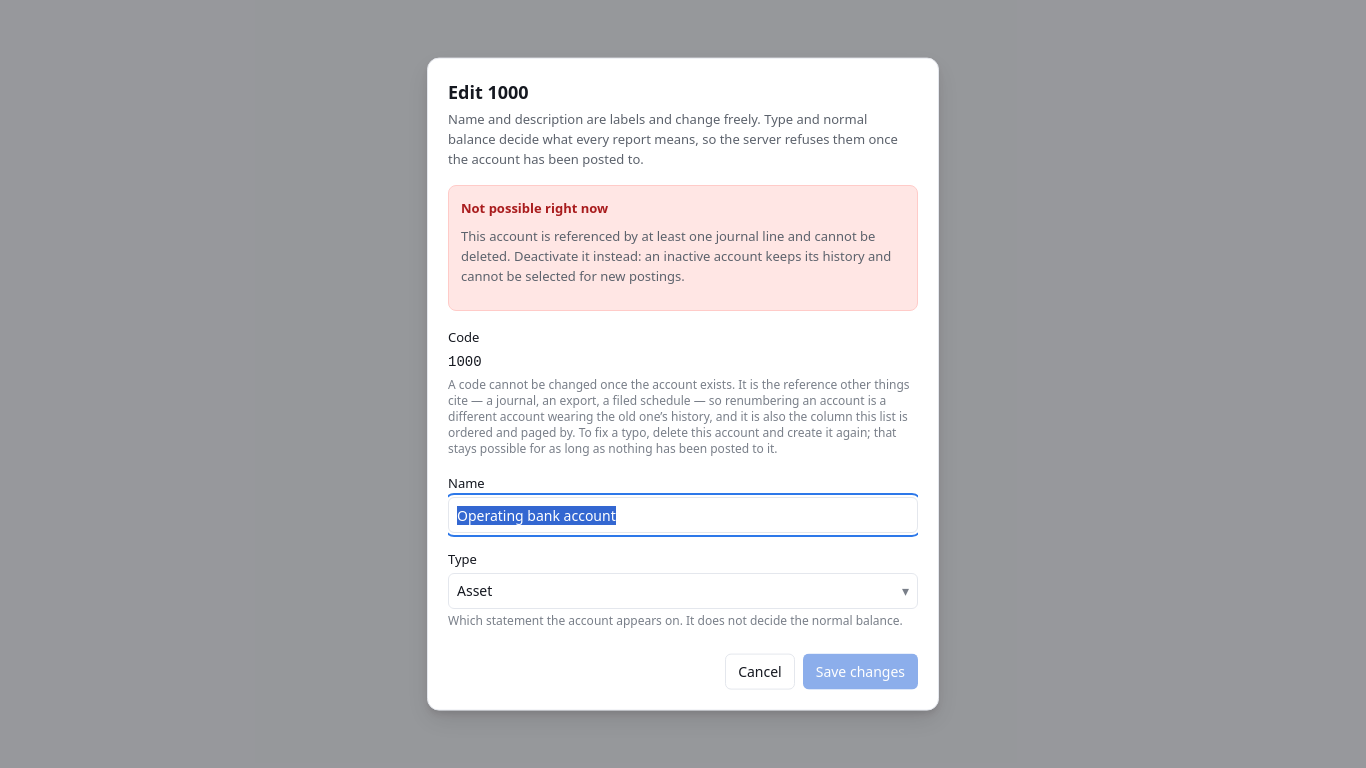
Test: EditAccountDialog › offers to put the classification back when that is what was refused
Expected: the button "Put the type and normal balance back" is not shown
Click the dropdown named "Type" at (475, 590), box [448,573,918,609]
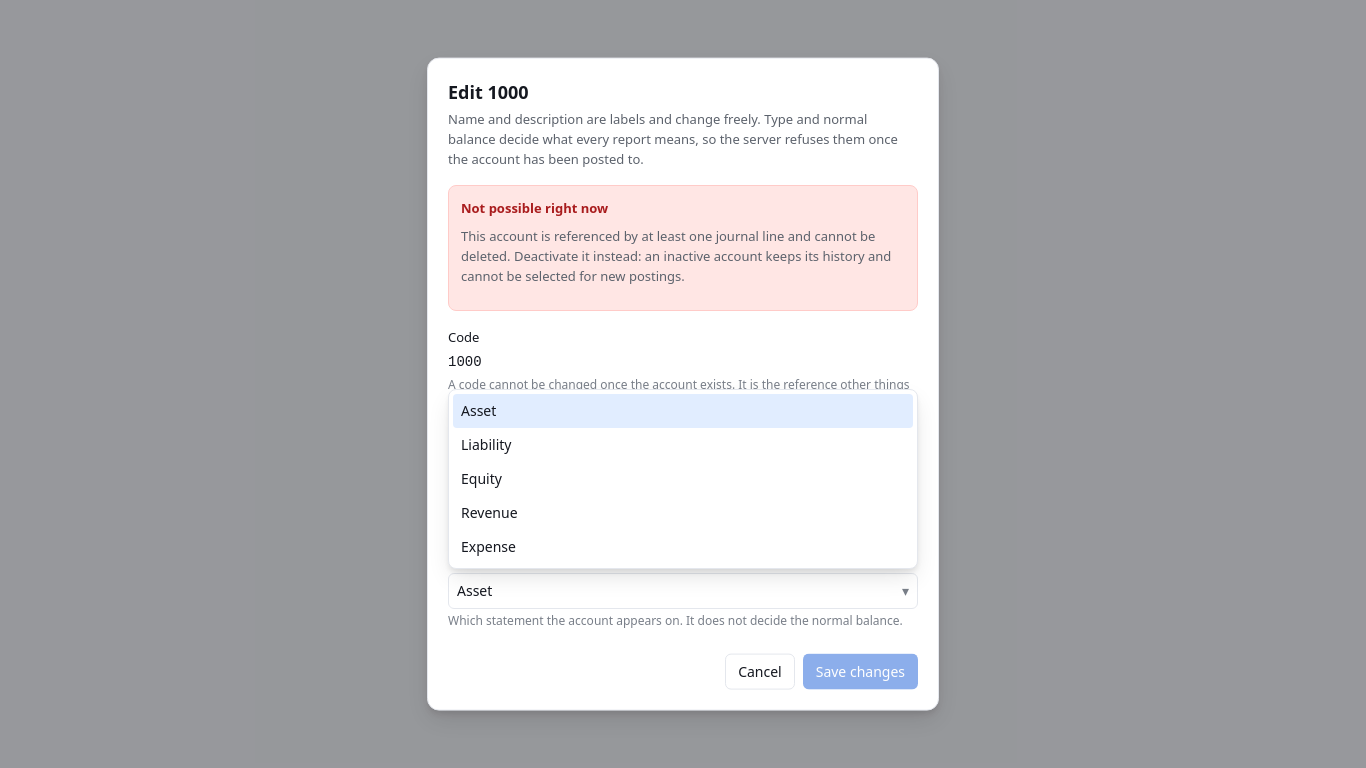
Click the option "Expense" at (488, 546), box [461,537,516,556]
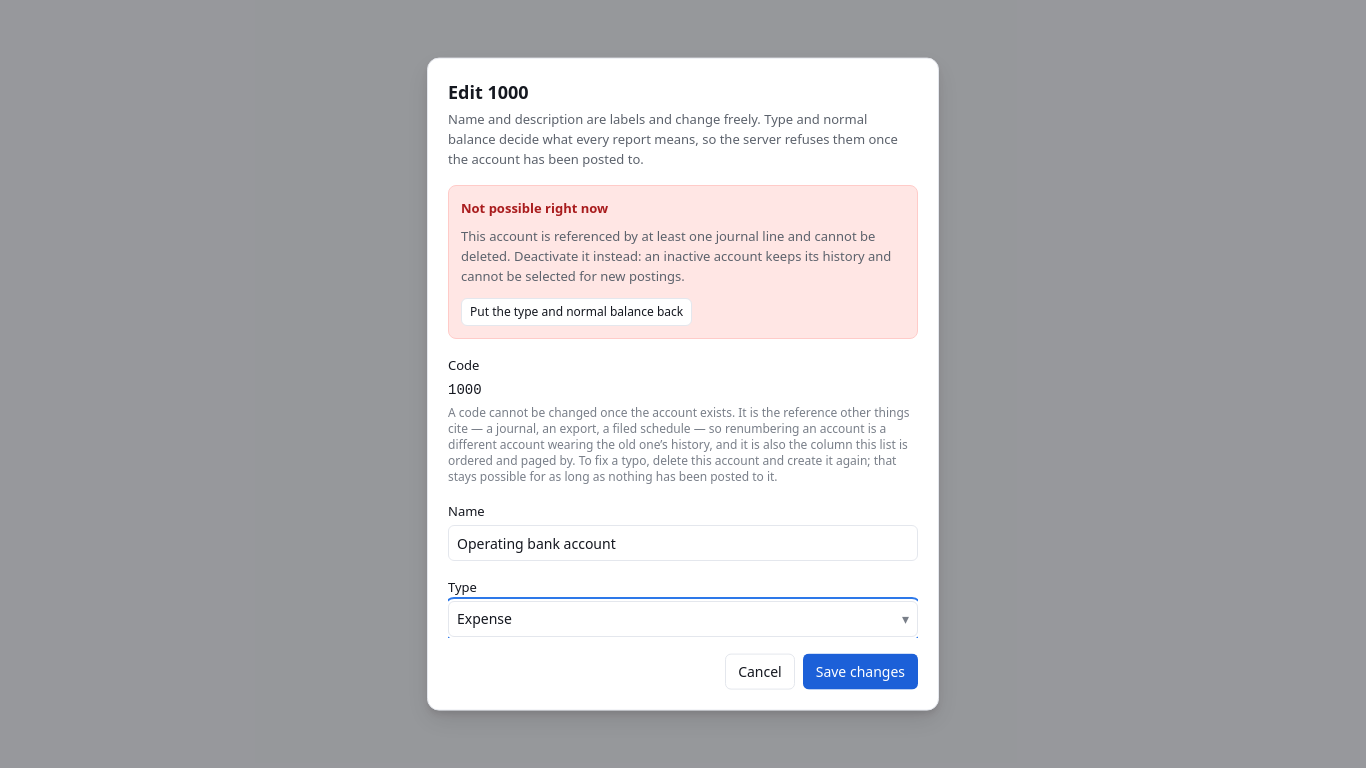
Now the button "Put the type and normal balance back" is shown
Click the button "Put the type and normal balance back" at (577, 312), box [461,298,692,326]
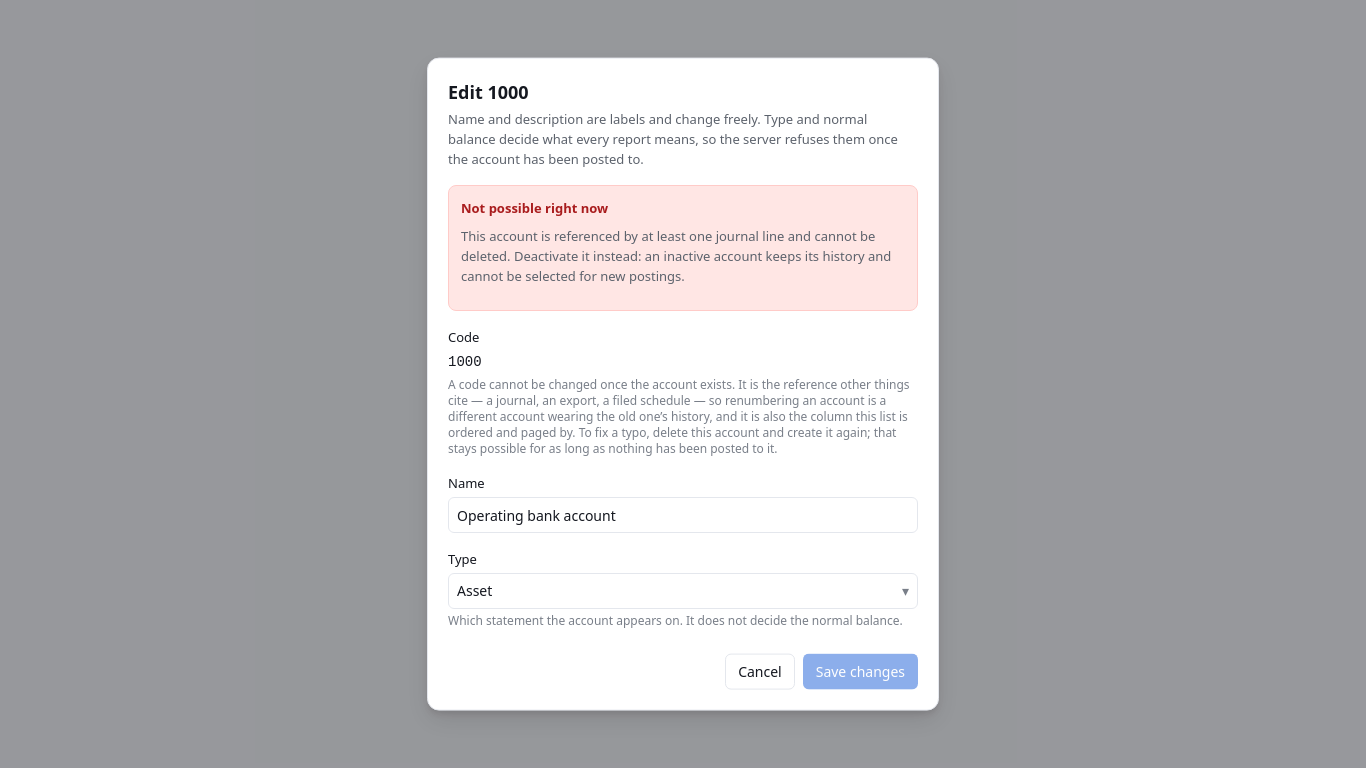
Now the dropdown named "Type" shows "Asset", box [448,573,918,609]
Now the button "Put the type and normal balance back" is gone
